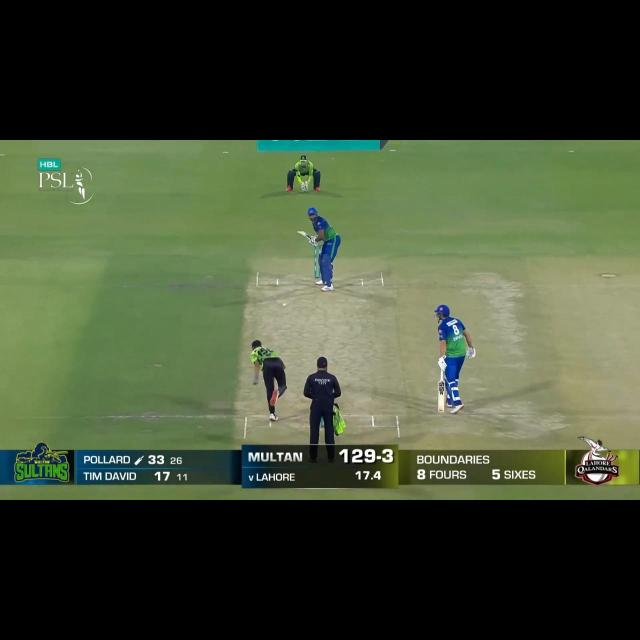bat: (290, 226, 314, 242), (436, 379, 446, 415)
toe: (435, 406, 445, 415), (296, 229, 306, 236)
